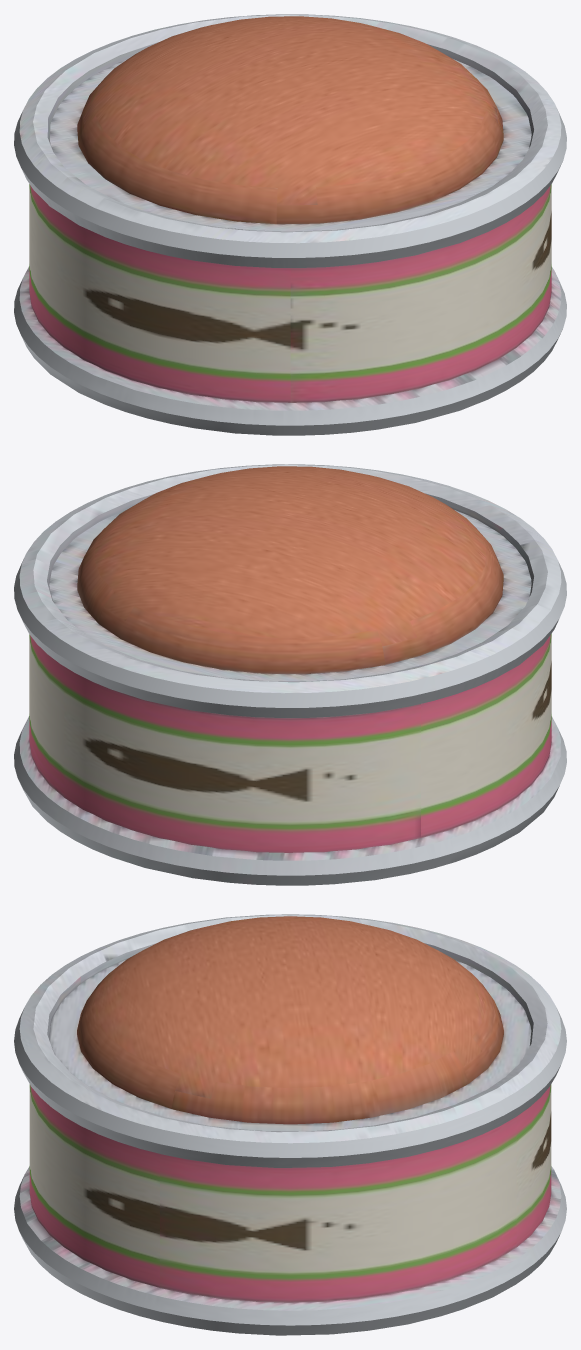
The model's file is can_food.glb.
The picture shows the model from 3 angles, top to bottom: view 1: azimuth 30°, elevation 25°; view 2: azimuth 150°, elevation 25°; view 3: azimuth 270°, elevation 25°; orthographic projection.
Visible parts, largest first — view 1: can_food; view 2: can_food; view 3: can_food.
Boxes of the visible parts, x1,y1,x2,y2 form: can_food: (14,14,566,435); can_food: (14,464,566,885); can_food: (14,914,566,1335).
Size of the model in its own units: 0.1424 by 0.0766 by 0.1424.
Materials: 1 (1 with a texture image).
